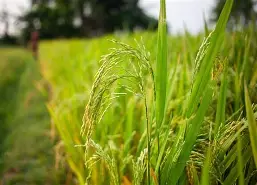crops: (30, 30, 251, 183), (0, 47, 50, 182), (223, 11, 255, 122), (37, 37, 101, 87), (78, 135, 143, 183), (110, 30, 162, 69), (173, 27, 204, 68)
